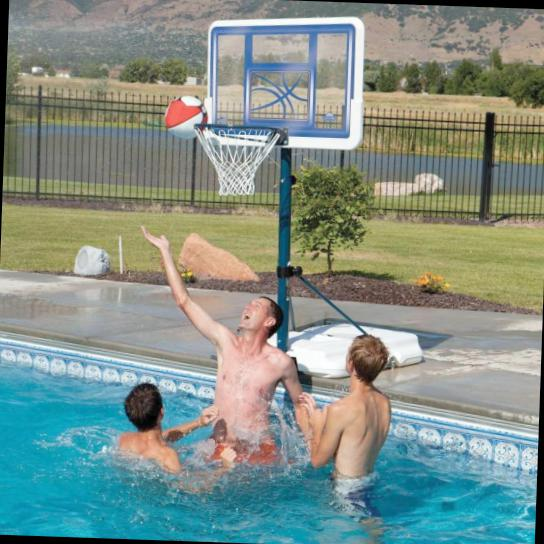basketball-hoop: (191, 121, 286, 198)
